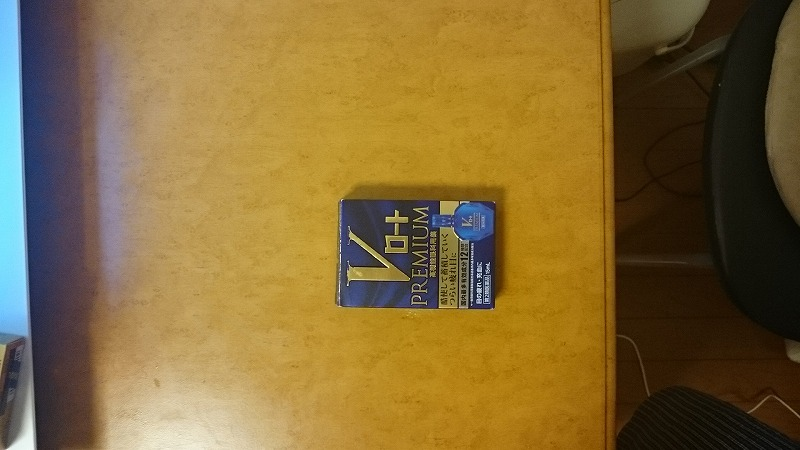D: (331, 197, 498, 312)
